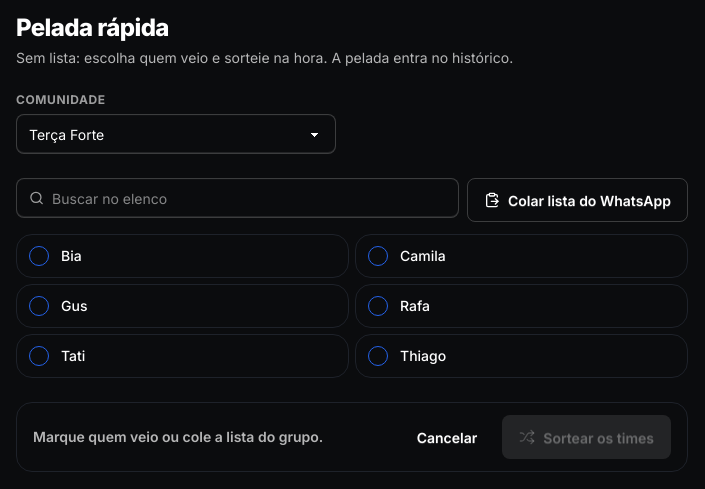
it: pelada rápida › no jogo livre explica que faltam atletas para três times
Click the checkbox labelled "Rafa": (378, 306) [368,296,388,316]
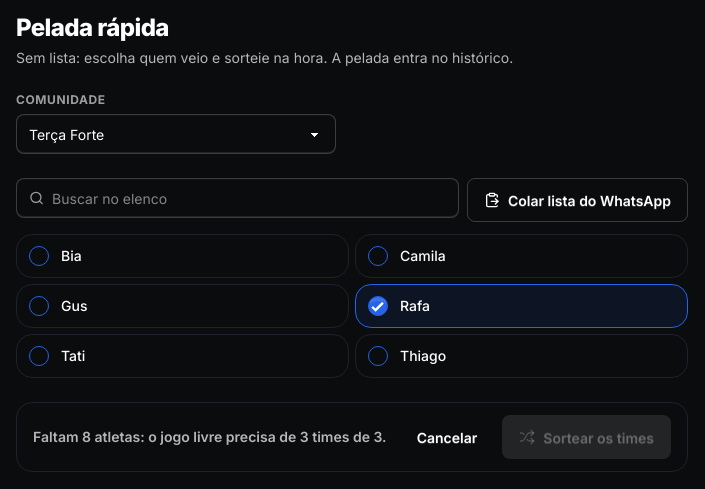
Check: the text "Faltam 8 atletas: o jogo livre precisa de 3 times de 3." is shown, box [33,427,386,447]
